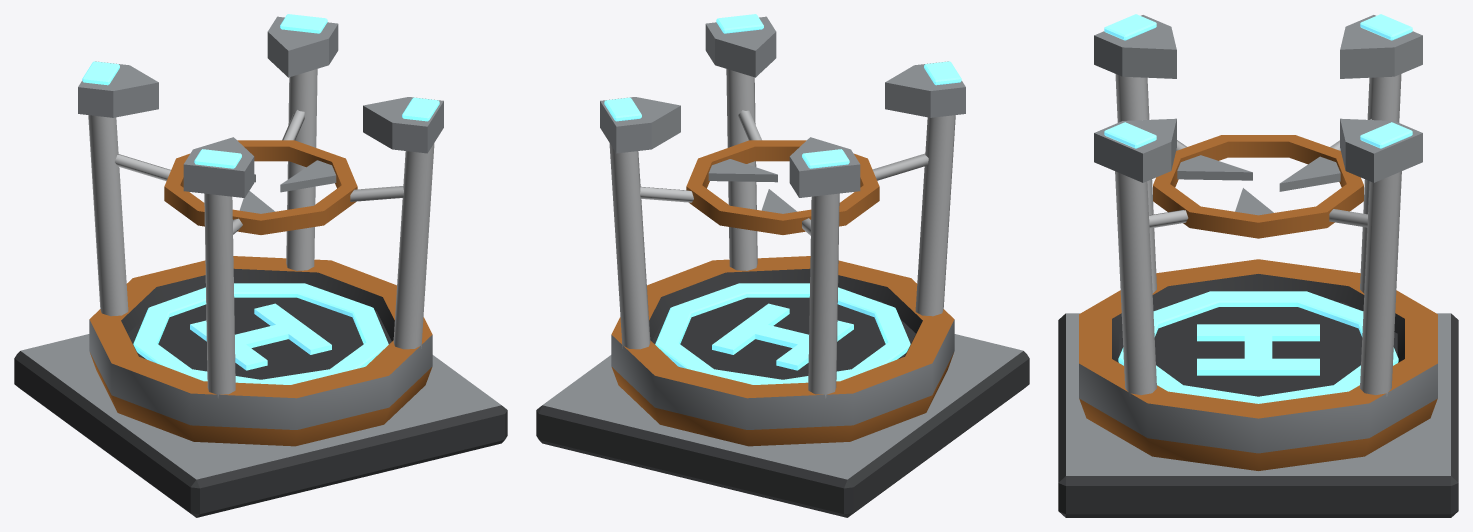
File: R4X_FlyingDroneDeployer_LOD1.fbx
3 views of the same model, side by side, from view 1: azimuth 30°, elevation 25°; view 2: azimuth 150°, elevation 25°; view 3: azimuth 270°, elevation 25° (orthographic). The views are drawn at different scales.
Visible parts, largest first — view 1: R4X_FlyingDroneDeployer_LOD1; view 2: R4X_FlyingDroneDeployer_LOD1; view 3: R4X_FlyingDroneDeployer_LOD1.
Boxes of the visible parts, x1,y1,x2,y2 form: R4X_FlyingDroneDeployer_LOD1: (14, 14, 507, 517); R4X_FlyingDroneDeployer_LOD1: (536, 14, 1029, 517); R4X_FlyingDroneDeployer_LOD1: (1058, 14, 1458, 517).
Bounding box in the file's own units: 0.52 × 0.513 × 0.52.
